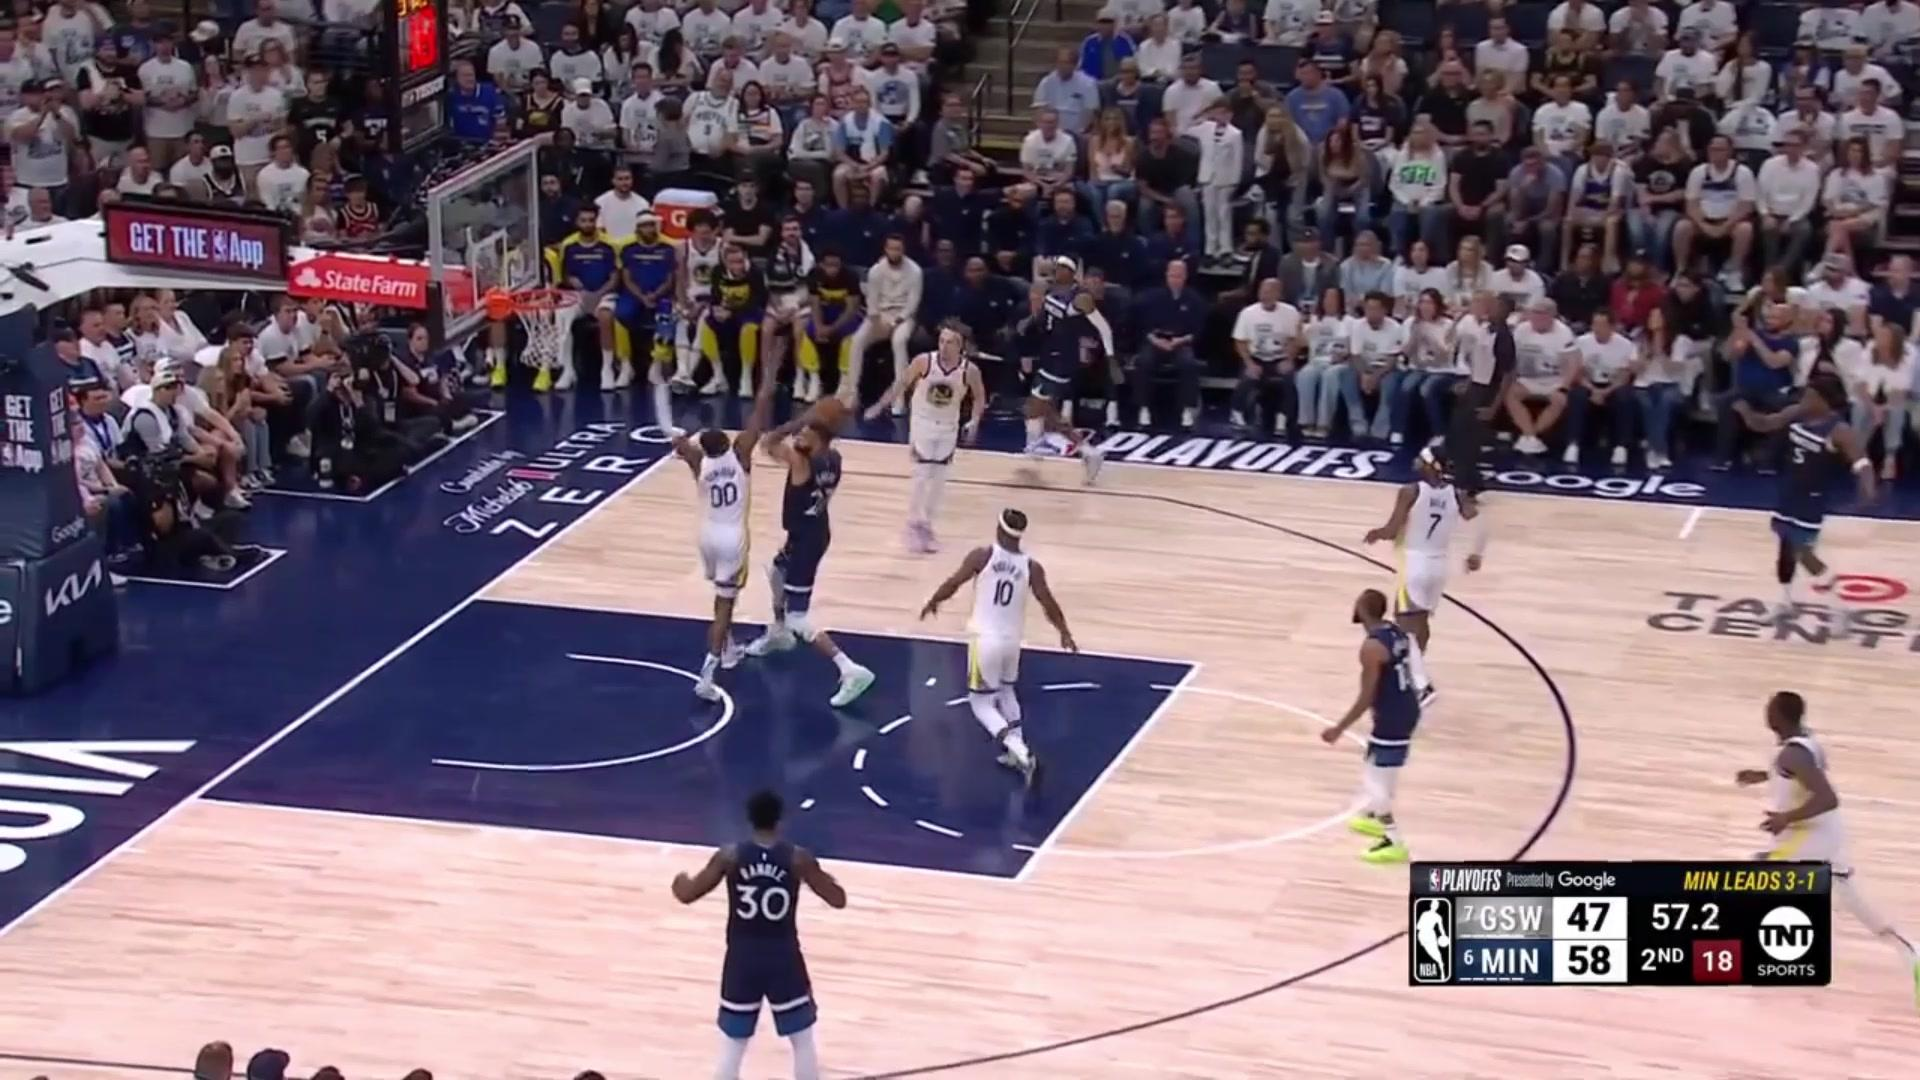no_foul: (666, 413, 884, 682)
